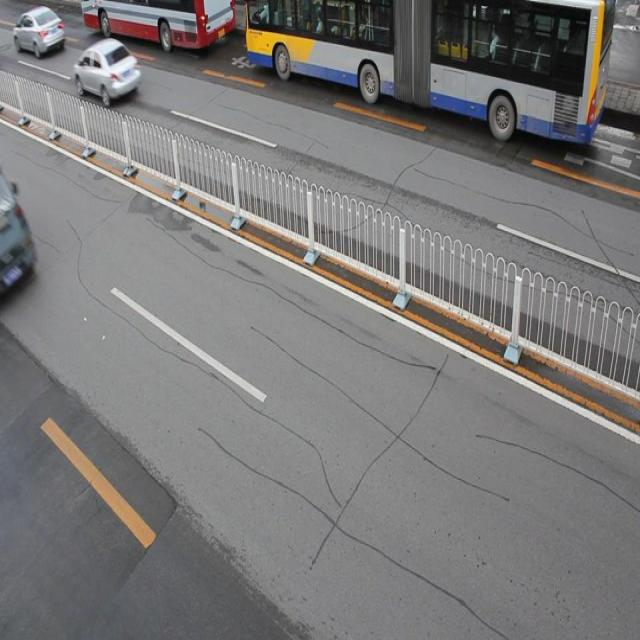car: (75, 37, 140, 105), (14, 1, 66, 59)
van: (245, 1, 612, 147), (82, 2, 234, 48)
